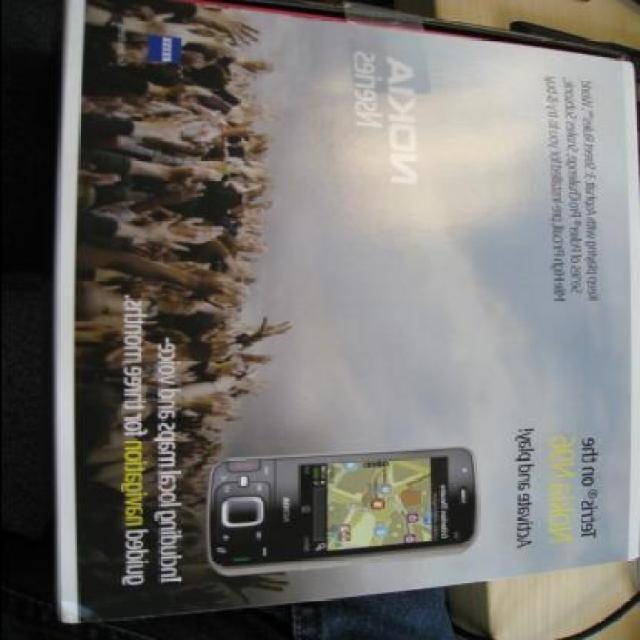phone: (206, 452, 492, 583)
